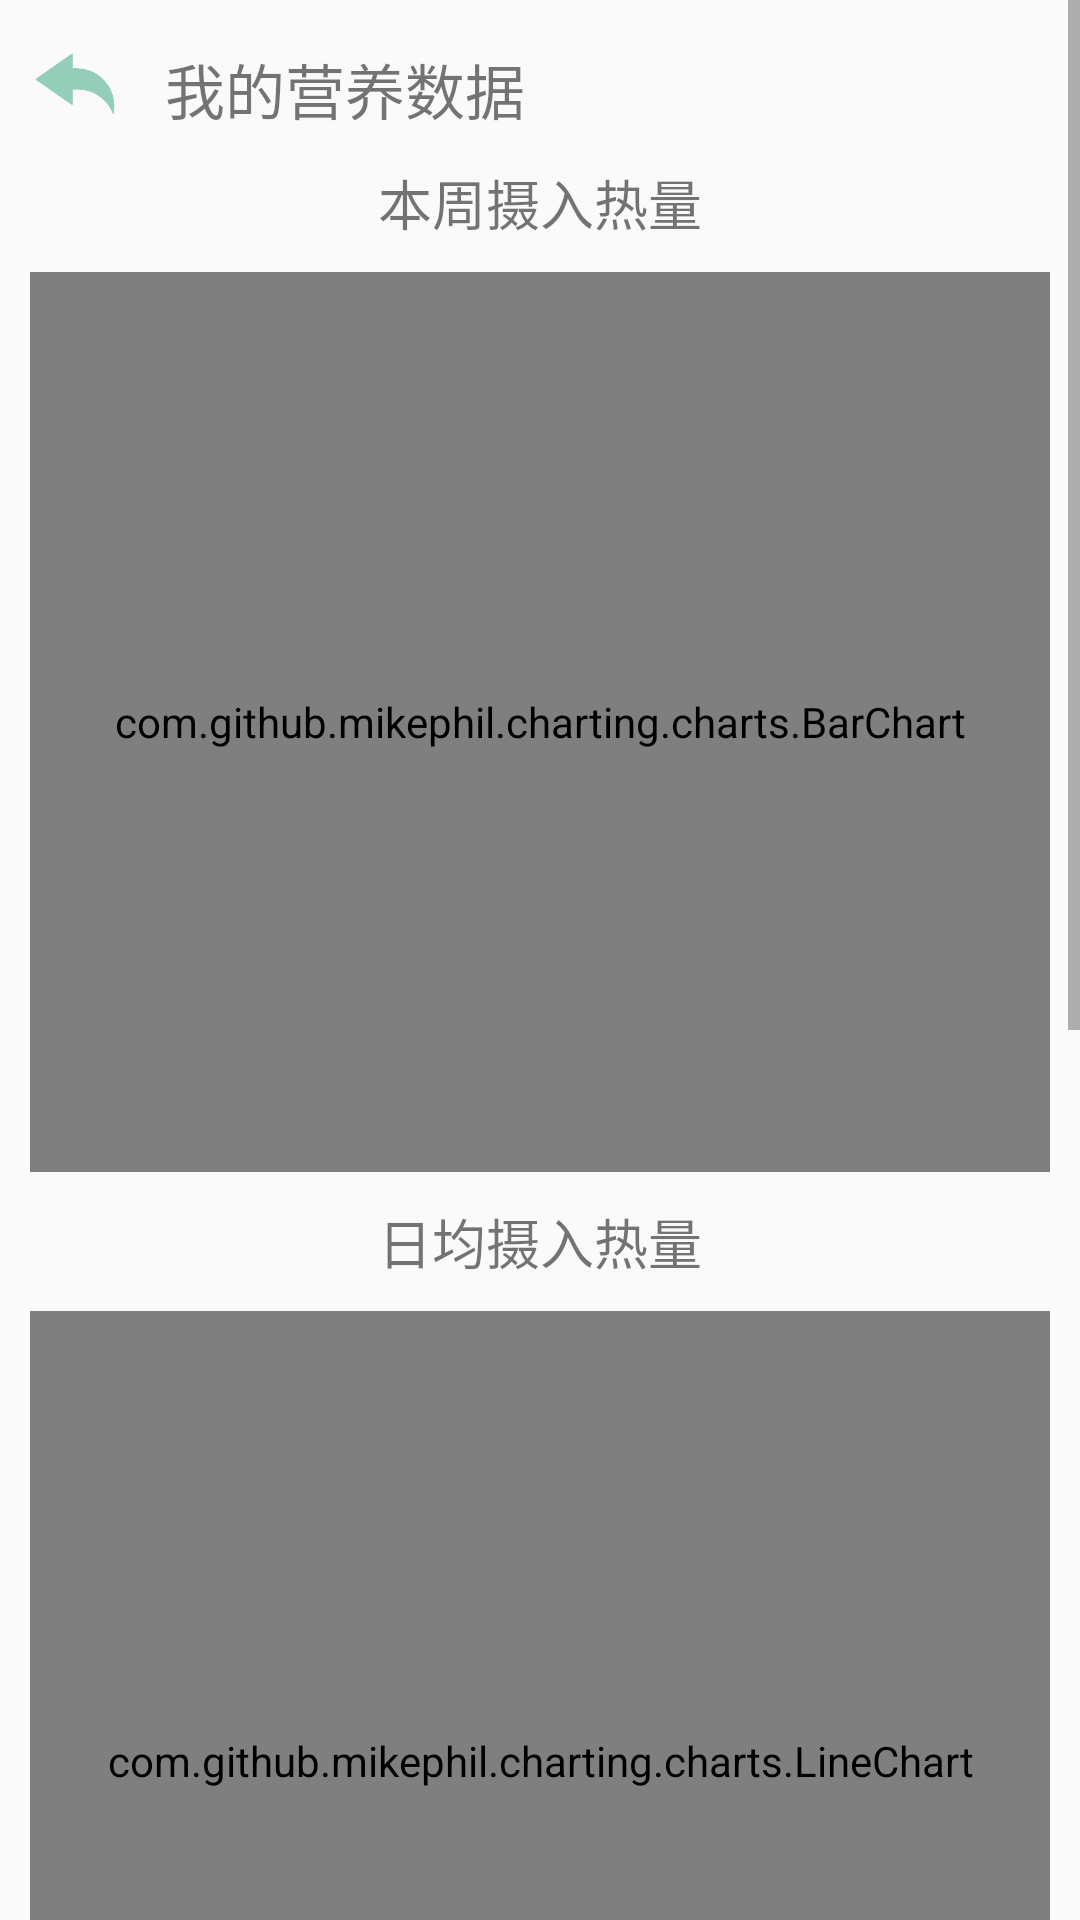

Where to tap for icons on this 1080px×1920px app screen, as (x,y):
back: (75,84)
